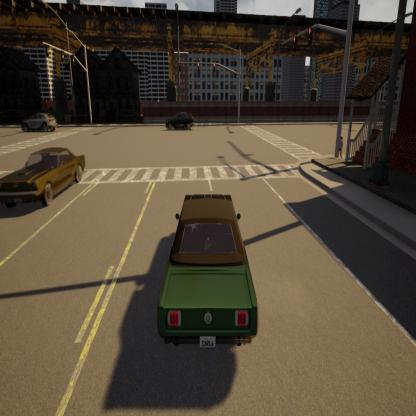Cars: (134, 172, 270, 376), (0, 140, 92, 215), (19, 109, 60, 135), (161, 108, 199, 136)
